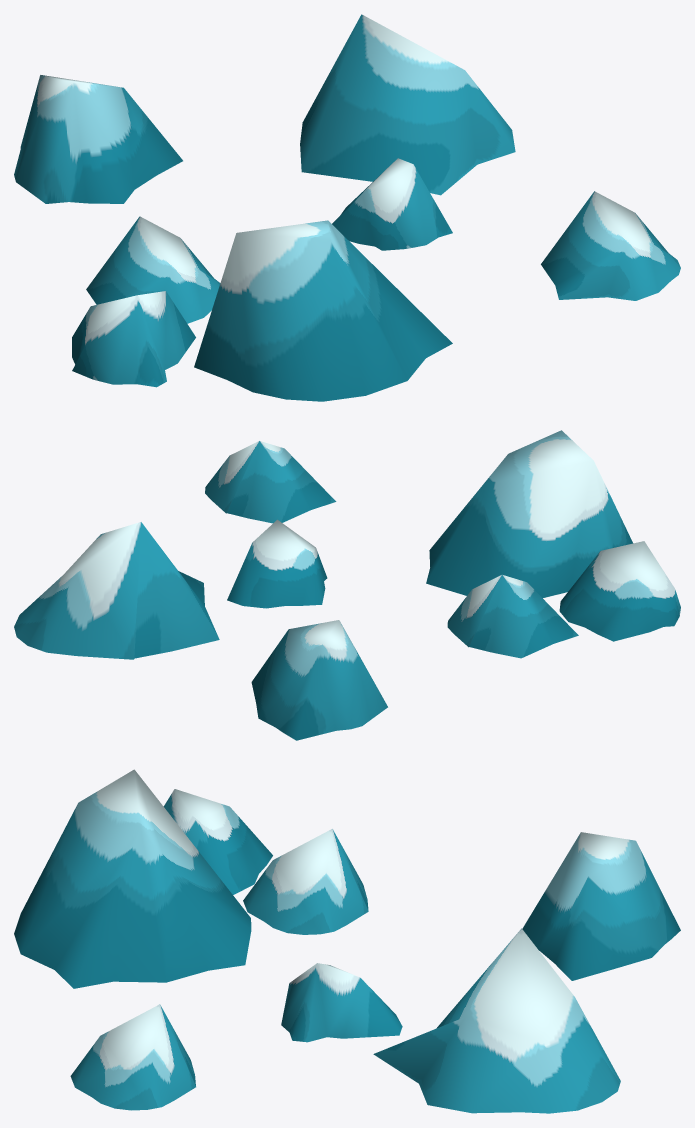
The model's file is Rock 2x 2 4_preview_3DS_simplified.glb.
The picture shows the model from 3 angles, top to bottom: view 1: azimuth 30°, elevation 25°; view 2: azimuth 150°, elevation 25°; view 3: azimuth 270°, elevation 25°; orthographic projection. The views are drawn at different scales.
Parts seen in each view (by area): view 1: Marine Park Empire model; view 2: Marine Park Empire model; view 3: Marine Park Empire model.
Boxes of the visible parts, box(x1,y1,x2,y2) form: Marine Park Empire model: box(14, 14, 680, 401); Marine Park Empire model: box(14, 430, 680, 740); Marine Park Empire model: box(14, 769, 680, 1113).
Size of the model in its own units: 55.74 by 12.42 by 56.89.
Materials: 1 (1 with a texture image).
